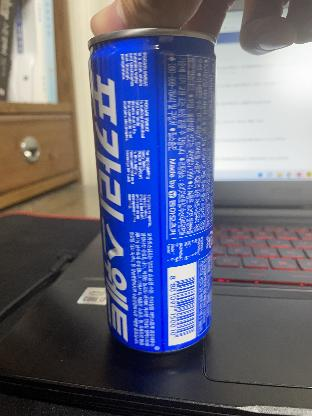Can: (86, 28, 216, 354)
